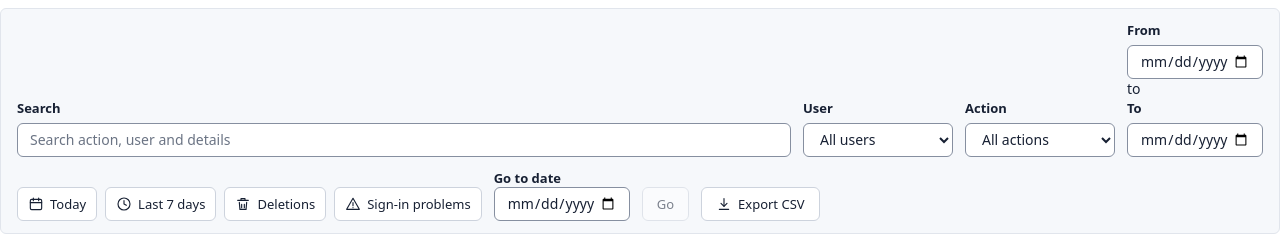
Test: AuditFilterBar Clear filters, Go to date, Export CSV and messages › shows Clear filters only when something is filtered, and clears everything including the search box
expect the button "Clear filters" is not shown: met
Click the button "Deletions": (275, 204) [224, 187, 326, 221]
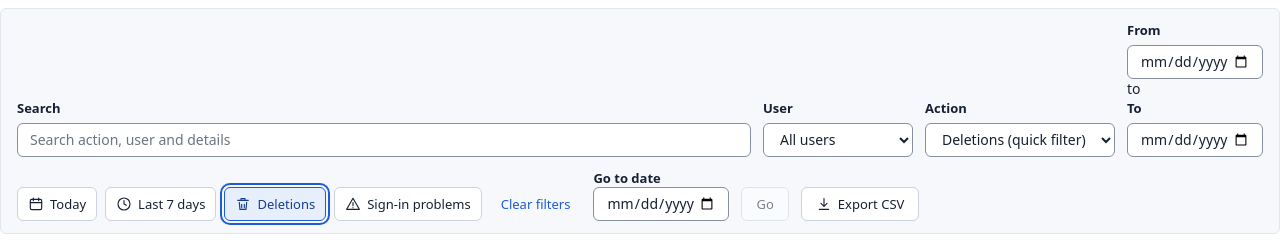
In the field labelled "Search": (384, 140) [17, 123, 751, 157], type "abc"
Then press Enter
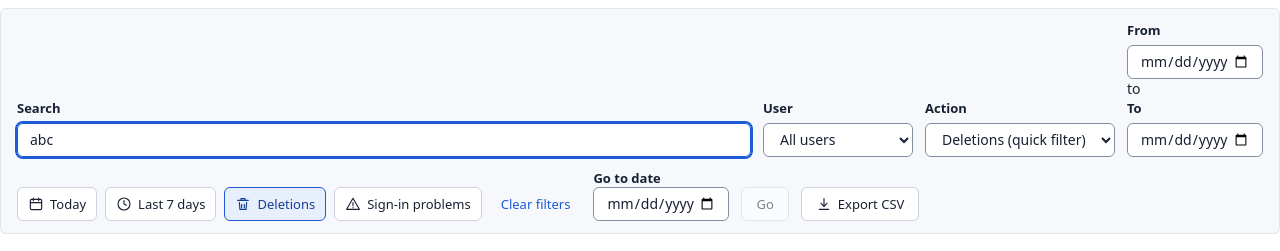
Click the button "Clear filters": (536, 204) [490, 189, 582, 219]
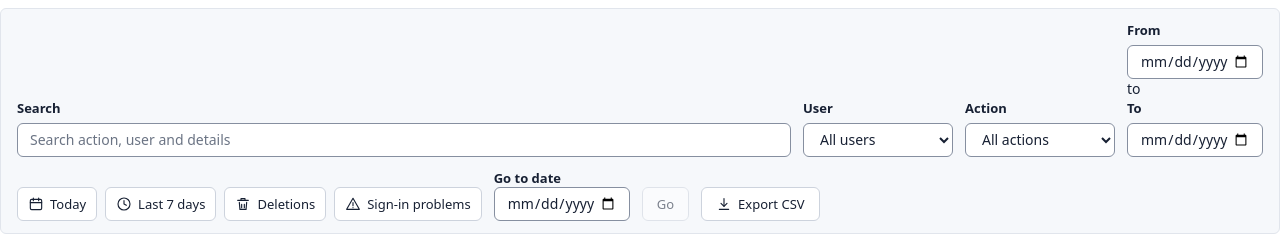
expect the field labelled "Search" is empty: met, box [17, 123, 791, 157]
expect the button "Clear filters" is gone: met
